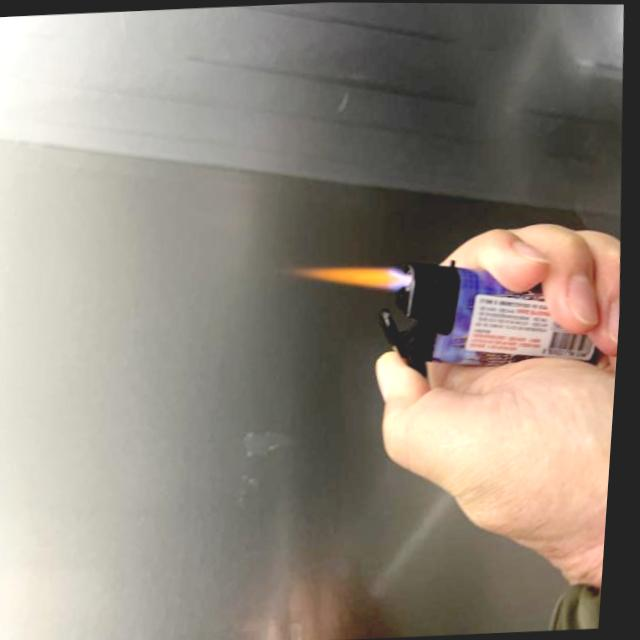helmet: (304, 260, 411, 297)
